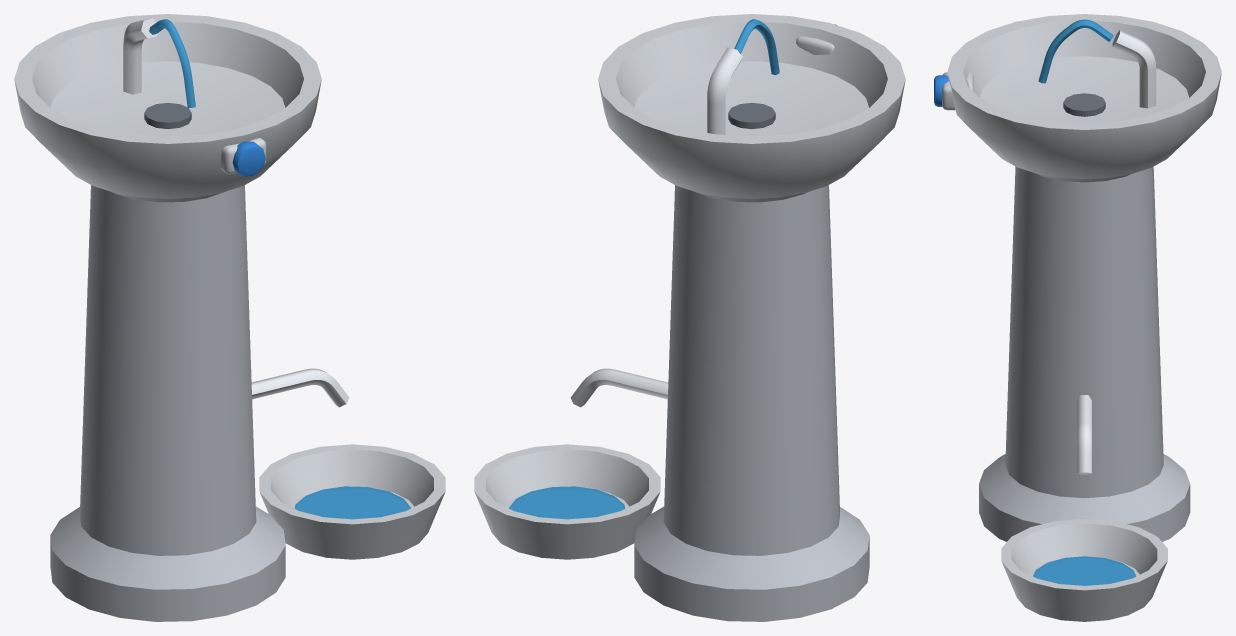
File: bebedouro.glb
3 renders of one model, left to right at view 1: azimuth 30°, elevation 25°; view 2: azimuth 150°, elevation 25°; view 3: azimuth 270°, elevation 25°, orthographic. The views are drawn at different scales.
Parts seen in each view (by area): view 1: bebedouro; view 2: bebedouro; view 3: bebedouro.
Boxes of the visible parts, box(x1,y1,x2,y2) form: bebedouro: box(14, 14, 445, 621); bebedouro: box(474, 14, 905, 621); bebedouro: box(934, 14, 1221, 621).
Bounding box in the file's own units: 0.78 × 1.03 × 0.545.
Materials: 2 (1 with a texture image).
